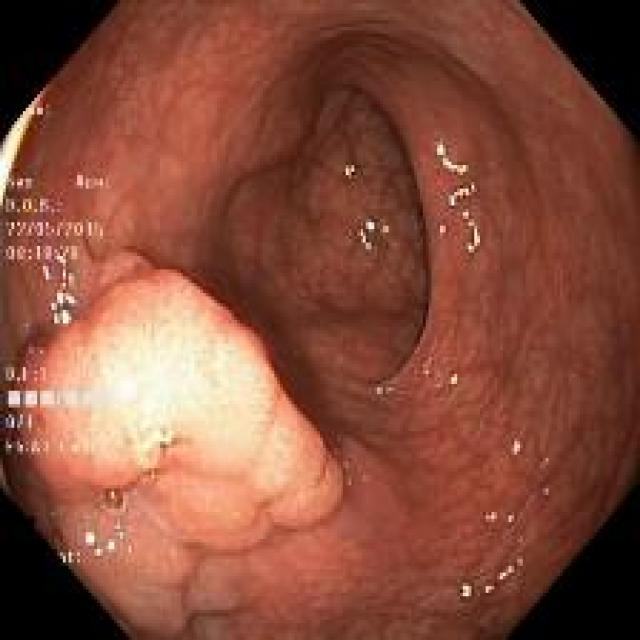Polyps: (8, 271, 344, 553)
